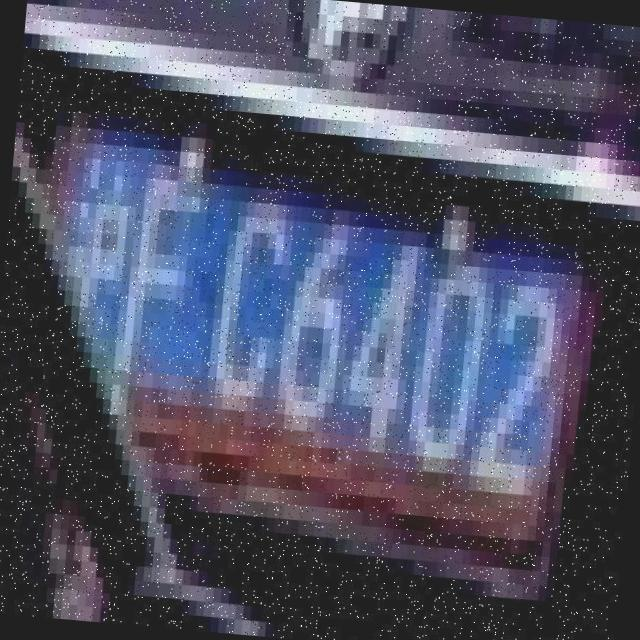LicensePlate: (34, 74, 599, 586)
